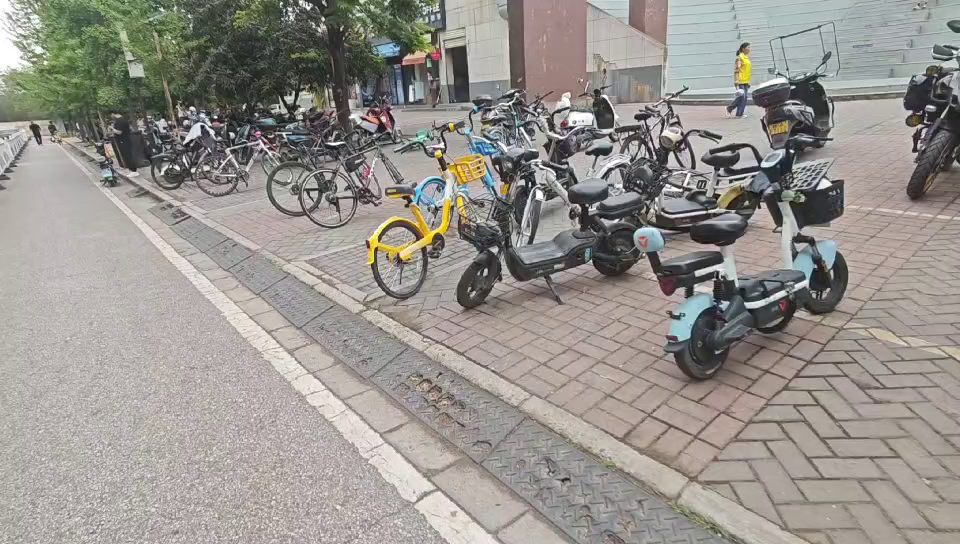others: (647, 137, 840, 380), (456, 143, 643, 309), (739, 28, 856, 162), (267, 131, 390, 221), (153, 137, 278, 193)
shared_bike_haluo: (409, 107, 508, 229)
shared_bike_meituan: (359, 123, 486, 302)
